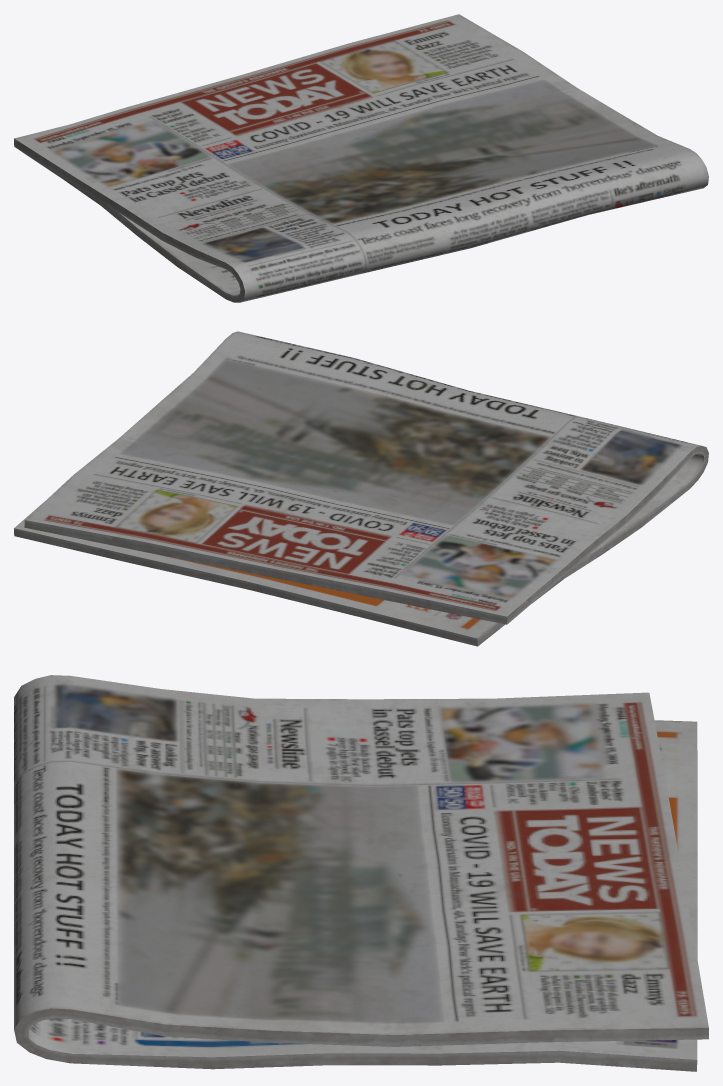
The model's file is SM_Small_Trash_NewsPaper_03.FBX.
3 views of the same model, one above another, from view 1: azimuth 30°, elevation 25°; view 2: azimuth 150°, elevation 25°; view 3: azimuth 270°, elevation 25° (orthographic). The views are drawn at different scales.
Visible parts, largest first — view 1: SM_Small_Trash_NewsPaper_03_LOD0; view 2: SM_Small_Trash_NewsPaper_03_LOD0; view 3: SM_Small_Trash_NewsPaper_03_LOD0.
Part boxes in pixels (x1,y1,x2,y2): SM_Small_Trash_NewsPaper_03_LOD0: [14, 14, 708, 302]; SM_Small_Trash_NewsPaper_03_LOD0: [14, 331, 708, 646]; SM_Small_Trash_NewsPaper_03_LOD0: [14, 675, 708, 1071].
Size of what is drawn, in the model's own units: 30.85 by 26.34 by 2.79.
